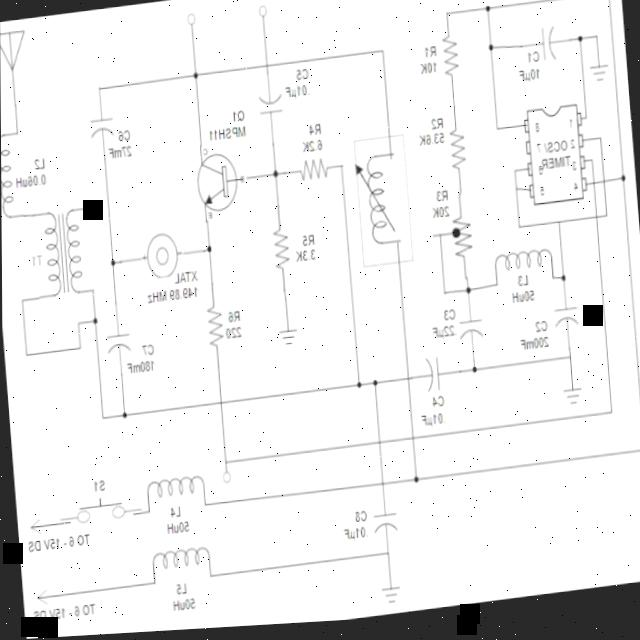capacitor: (251, 82, 292, 133), (99, 319, 139, 369), (79, 107, 120, 152), (366, 504, 405, 551), (413, 354, 447, 406), (532, 23, 563, 79), (451, 312, 486, 356), (547, 307, 583, 344)
ground: (554, 378, 589, 422), (268, 319, 301, 360), (376, 574, 403, 620), (585, 62, 614, 99)
inductor: (351, 148, 404, 264), (138, 462, 217, 529), (58, 200, 100, 305), (144, 535, 217, 595), (29, 207, 72, 305), (488, 244, 555, 303), (1, 122, 29, 225)
node: (267, 164, 285, 190), (200, 236, 218, 262), (460, 286, 475, 308), (108, 250, 120, 276), (615, 178, 632, 195), (558, 274, 571, 296), (351, 379, 366, 398), (484, 43, 497, 61), (574, 37, 586, 54), (481, 5, 491, 24), (368, 380, 383, 392), (120, 406, 129, 425), (411, 474, 421, 490), (189, 69, 201, 82), (470, 365, 479, 382), (91, 312, 98, 330)
resistor: (260, 217, 298, 291), (443, 203, 477, 278), (445, 117, 478, 183), (198, 296, 227, 362), (294, 146, 332, 193), (435, 31, 464, 88)
switch: (61, 490, 132, 541)
transistor: (182, 146, 252, 227)
